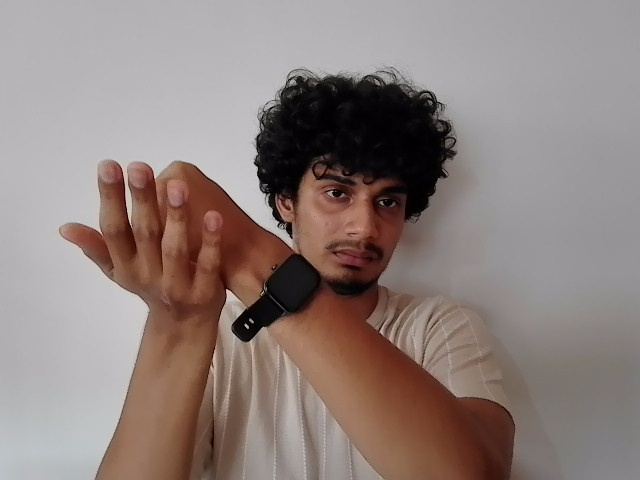help: (60, 156, 250, 306)
